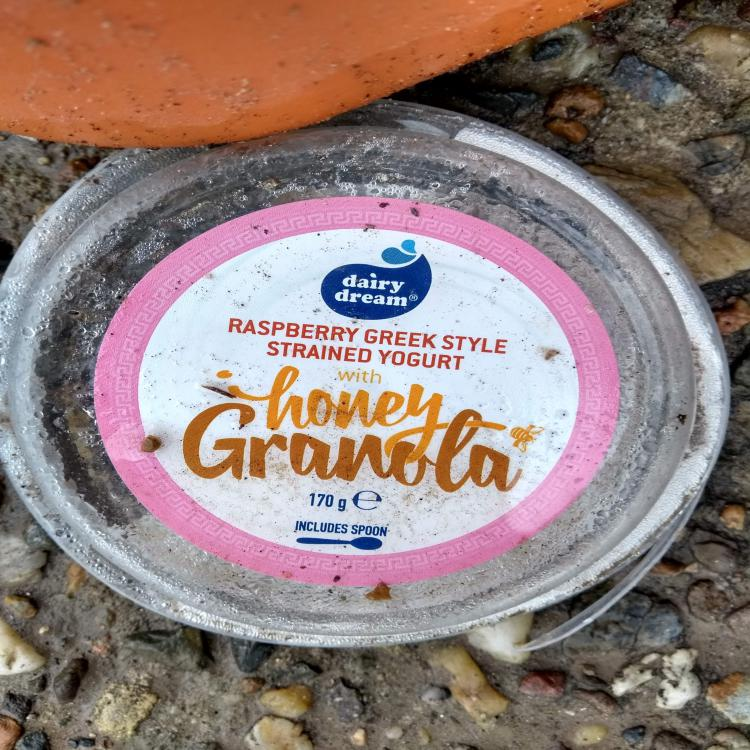Plastic lid: (0, 99, 731, 651)
